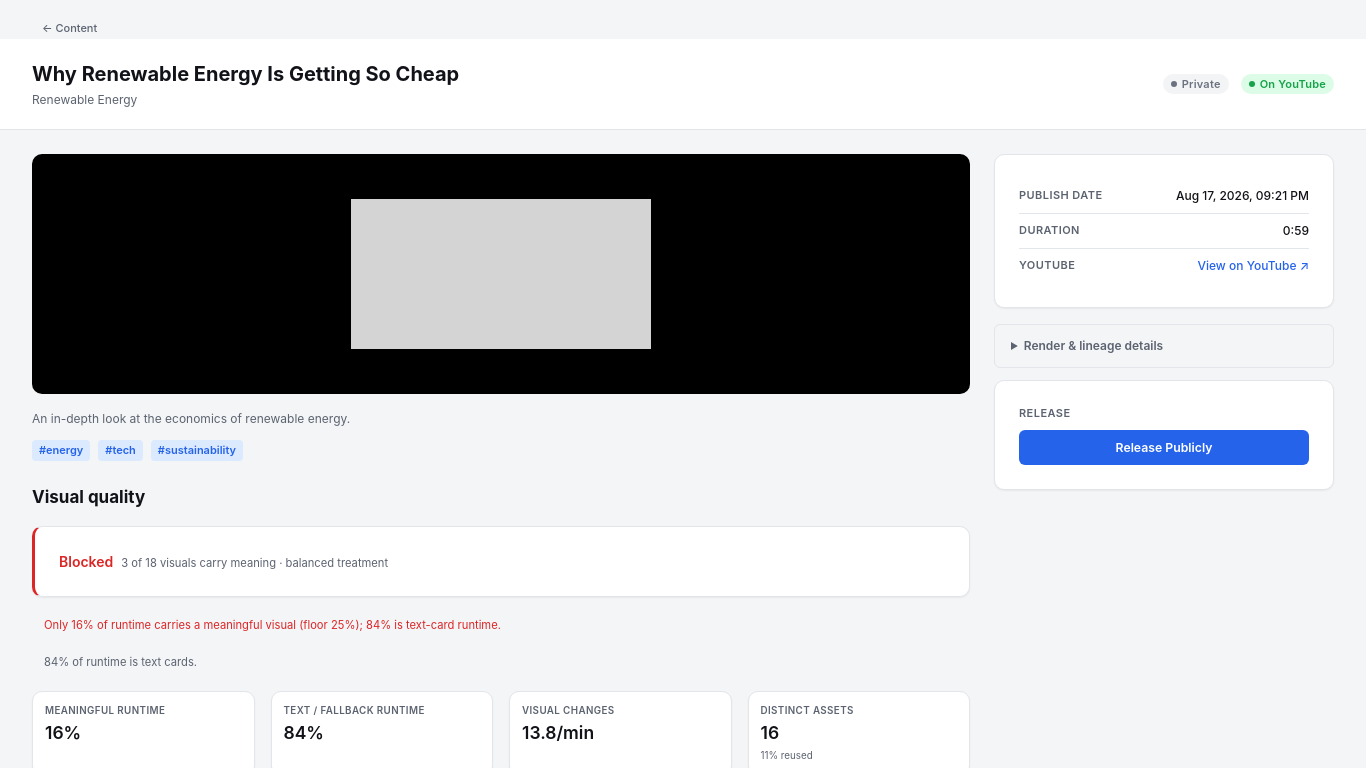
Test: Confirmation modal › opens confirmation modal on button click
Click the button "Release Publicly".
click(1164, 447)  # box [1019,430,1309,464]
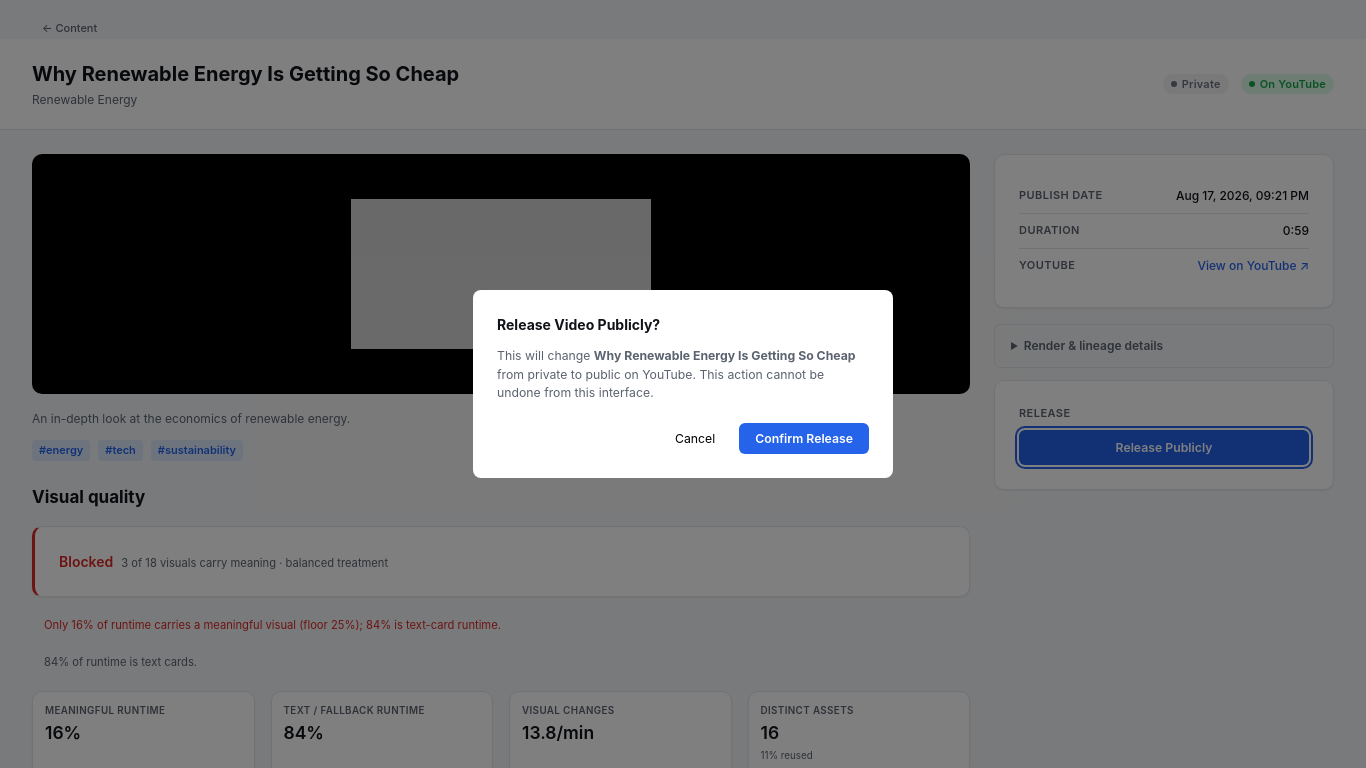
Now the dialog is shown
Now the heading "Release Video Publicly?" is shown, box [497,316,660,333]
